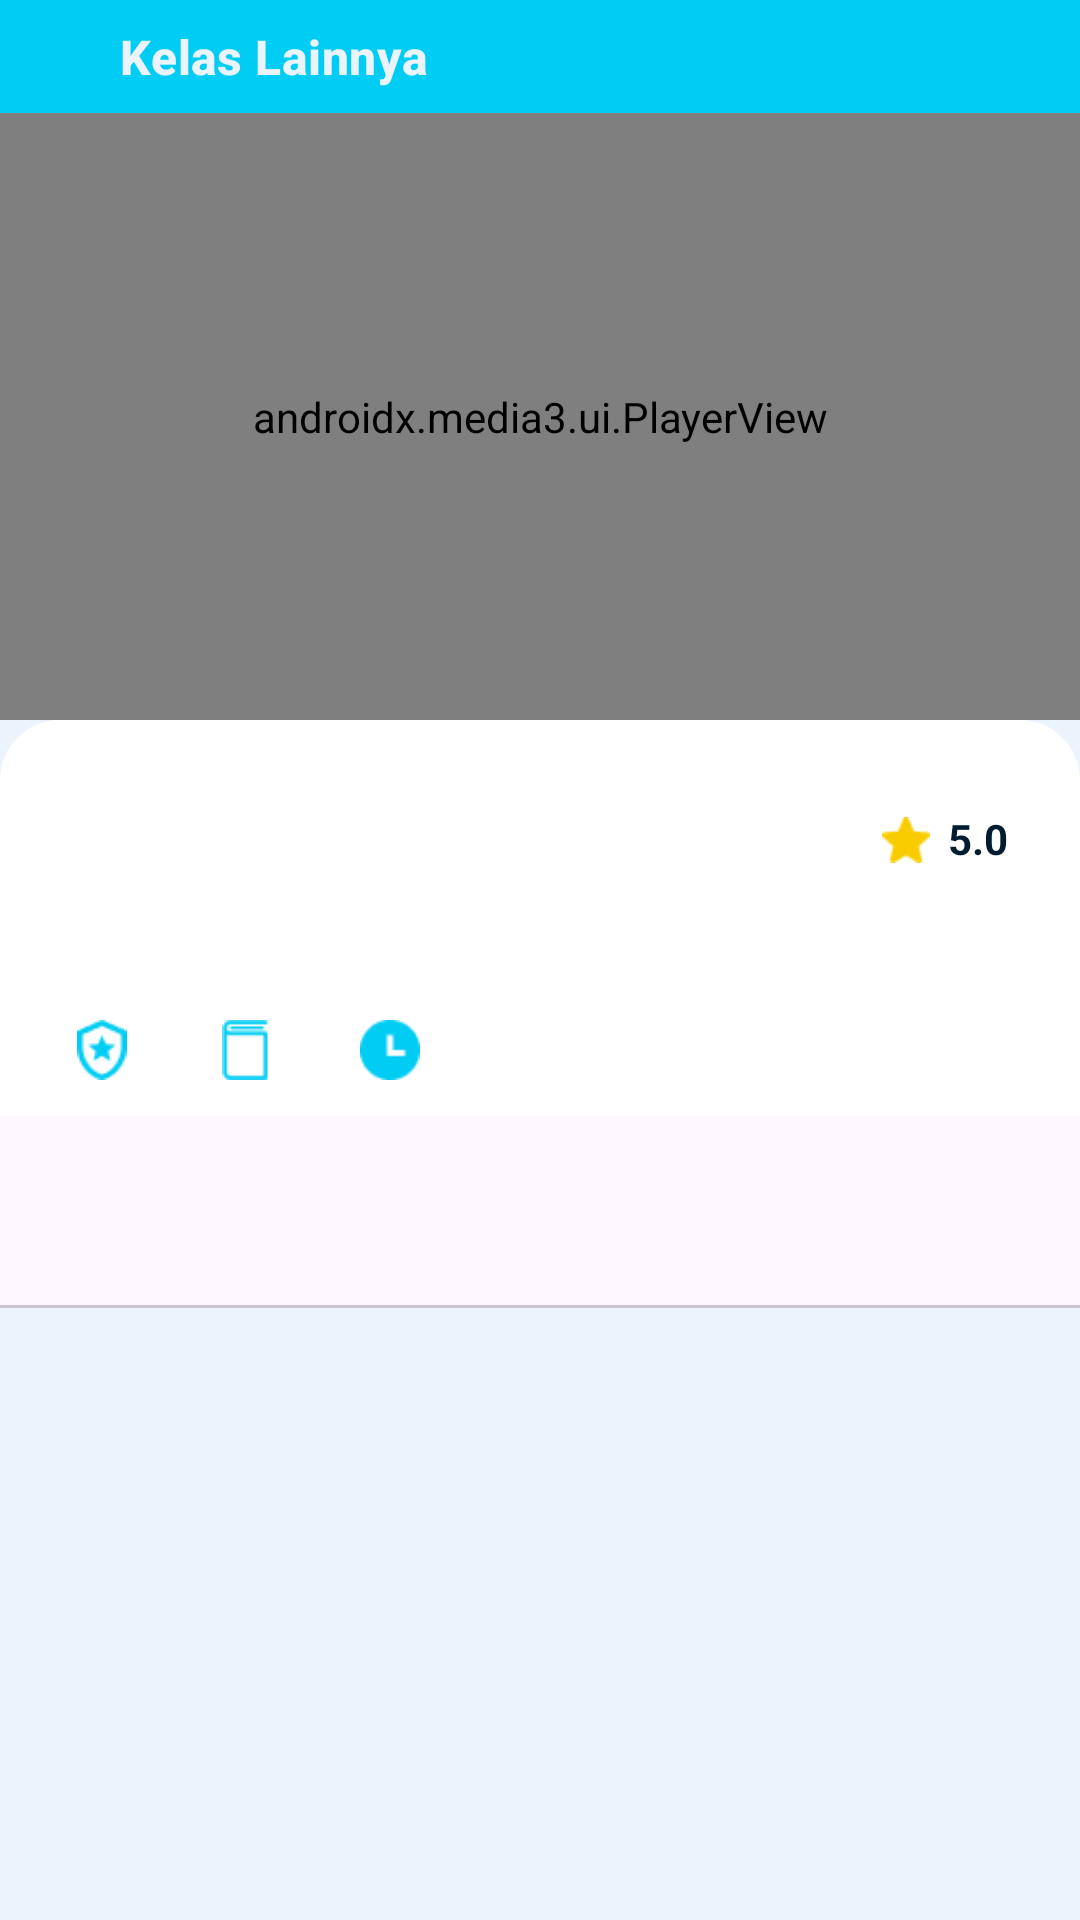

Icons on this 1080 × 1920 Android screen, each with the point to tap as point (x, y):
beginner level: point (102, 1050)
modul: point (245, 1050)
rating: point (906, 840)
time: point (390, 1050)
